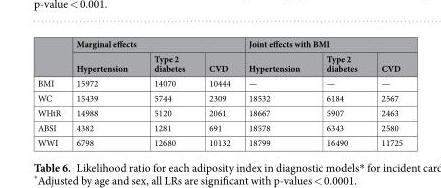table: (36, 37, 402, 148)
table column: (238, 37, 312, 148), (68, 37, 140, 148), (140, 37, 196, 148), (312, 37, 368, 148), (196, 37, 238, 148), (368, 37, 402, 148), (36, 37, 68, 148)
table column header: (36, 37, 402, 75)
table row: (36, 50, 402, 75), (36, 75, 402, 90), (36, 90, 402, 105), (36, 119, 402, 134), (36, 105, 402, 119), (36, 134, 402, 148), (36, 37, 402, 50)
table spanning cell: (68, 37, 238, 50), (238, 37, 402, 50)
